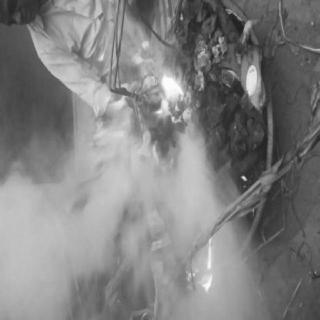Smoke: (170, 143, 218, 237)
